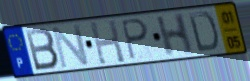B: (24, 27, 61, 73)
D: (186, 10, 220, 54)
H: (154, 11, 195, 58), (88, 18, 127, 66)
N: (50, 22, 92, 70)
P: (119, 18, 151, 62)
